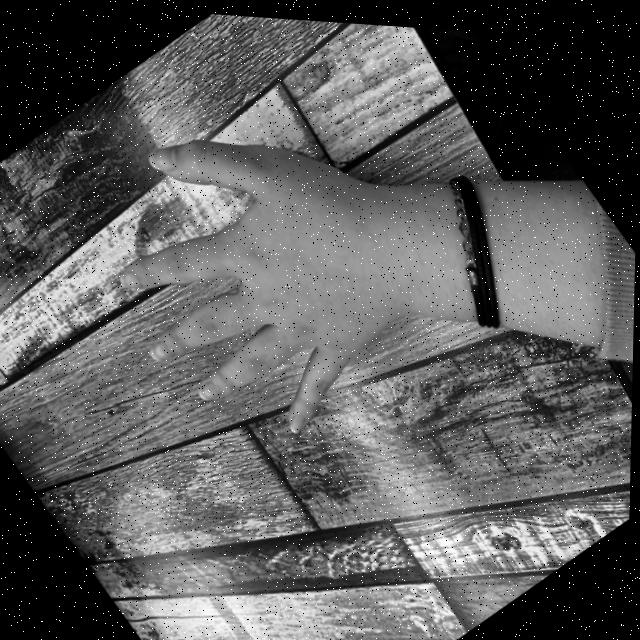hand: (44, 56, 451, 487)
